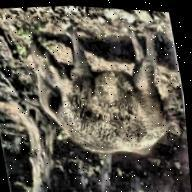boar: (22, 14, 176, 169)
